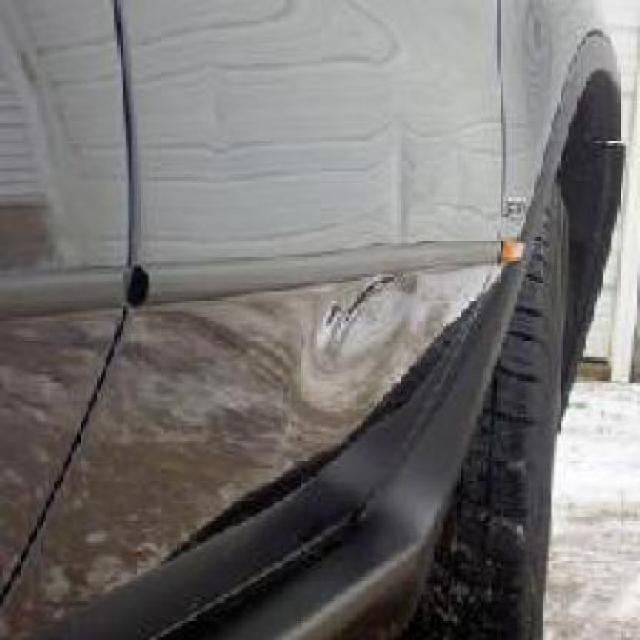dent-or-scratch: (320, 269, 426, 366)
